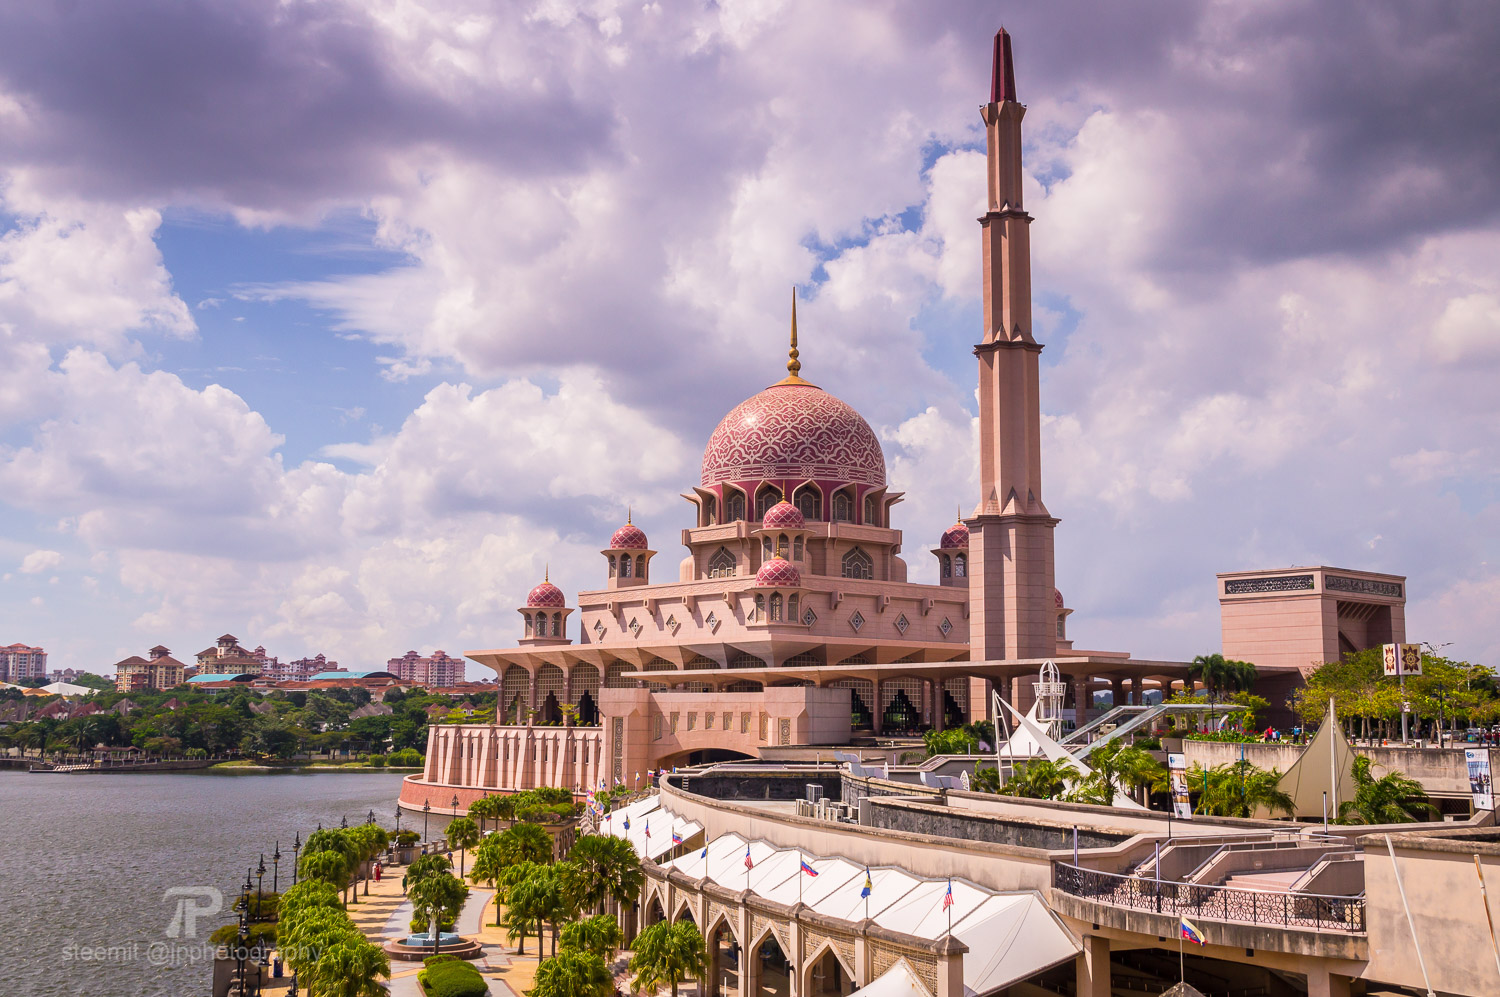Mosque: (456, 31, 1086, 804)
